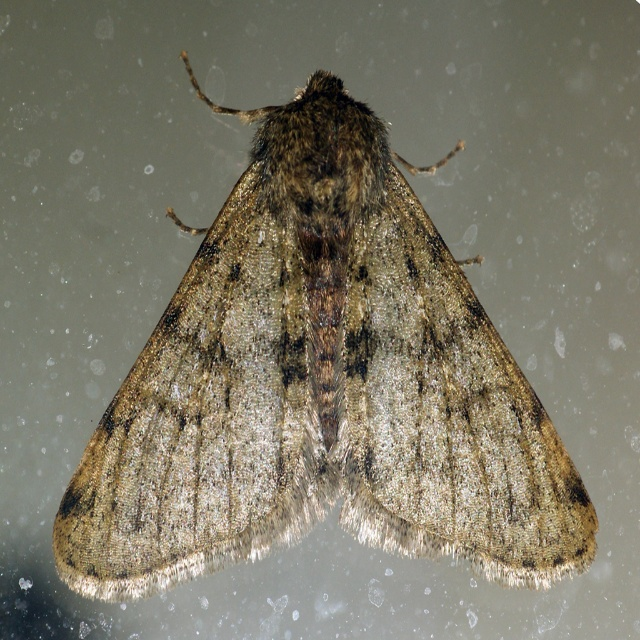Butterfly: (51, 51, 599, 605)
